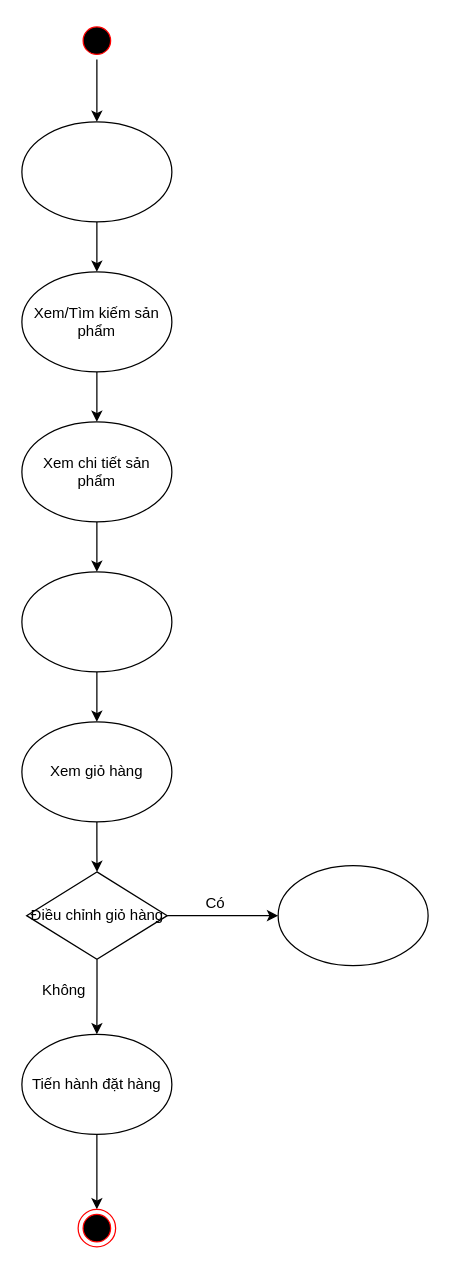
Image size: 450x1269. Some labels were removed from this diagram. The centre of each missing label's shape, as x and y in pixels:
"Thêm vào giỏ hàng" belongs at [96,621].
"Điều chỉnh số lượng/xóa phẩm khỏi giỏ" belongs at [352,915].
"Đăng nhập" belongs at [96,171].
